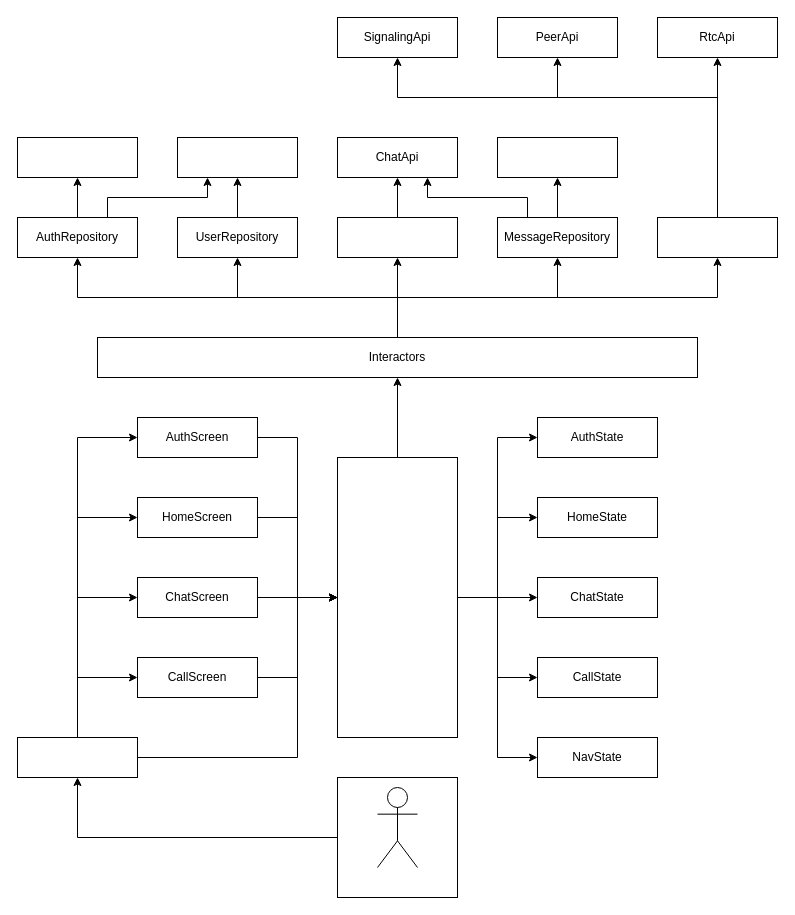
The diagram is 795 pixels wide and 915 high, and some of its shapes have lost their labels. The box of each missing label's shape, as (x1, y1, x2, y2) in pixels:
AuthApi: (16, 136, 138, 178)
CallRepository: (656, 216, 778, 258)
ChatRepository: (336, 216, 458, 258)
MessageApi: (496, 136, 618, 178)
Router: (16, 736, 138, 778)
User: (376, 786, 418, 868)
UserApi: (176, 136, 298, 178)
ViewModels: (336, 456, 458, 738)
